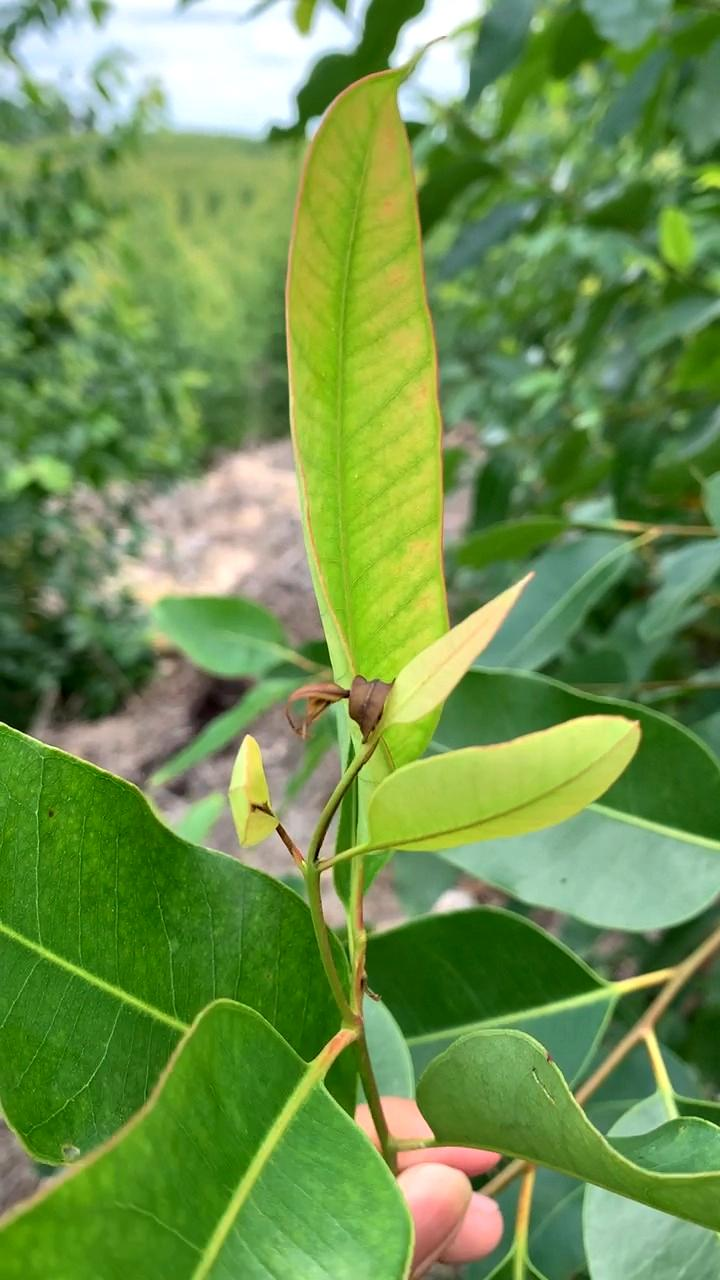Helopeltis-Withered Sprout: (277, 673, 397, 749)
